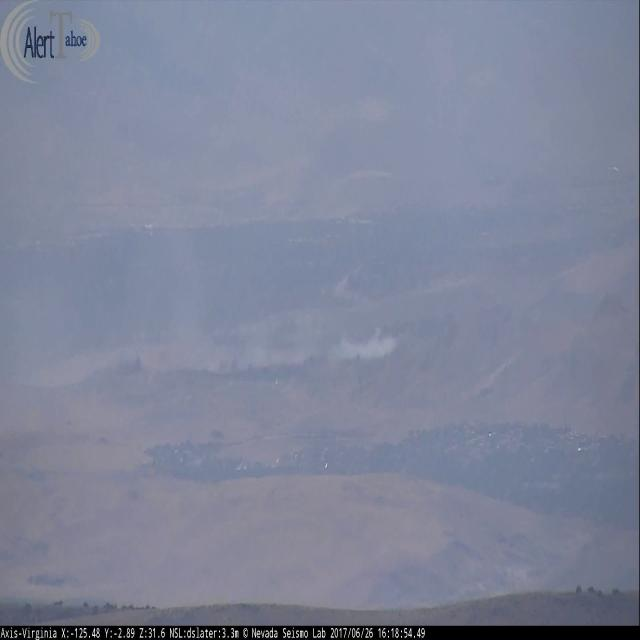smoke: (326, 322, 399, 361)
